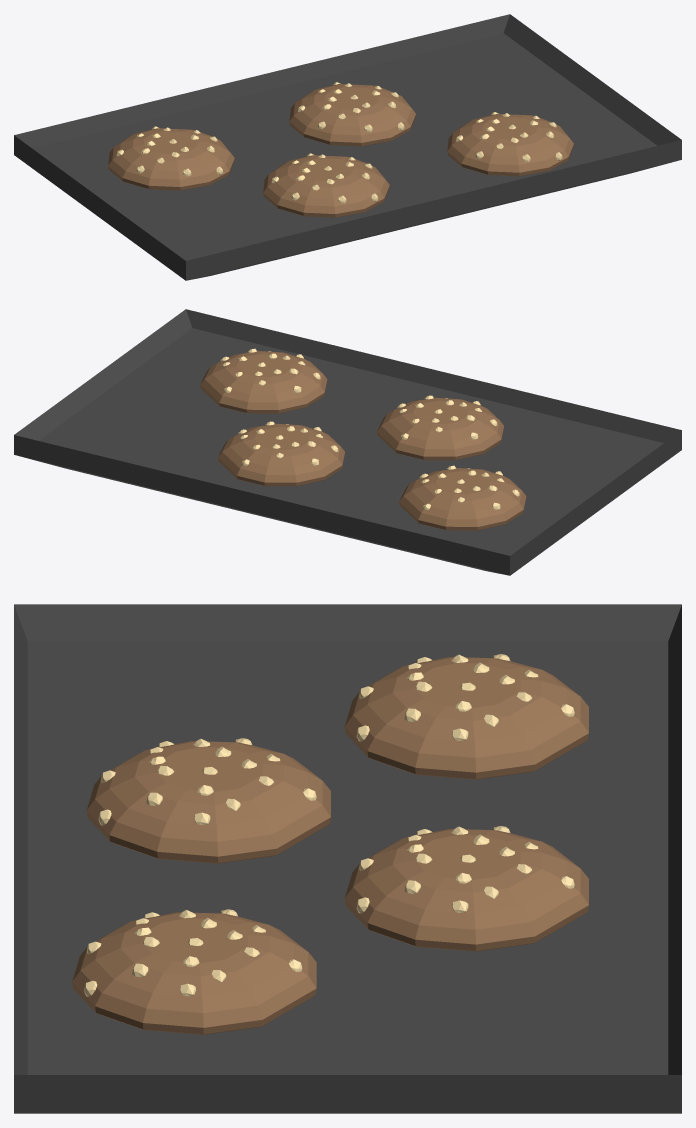
Rendered from rawWhiteCookieTray.fbx.
The picture shows the model from 3 angles, top to bottom: view 1: azimuth 30°, elevation 25°; view 2: azimuth 150°, elevation 25°; view 3: azimuth 270°, elevation 25°; orthographic projection. The views are drawn at different scales.
Visible parts, largest first — view 1: Cube, Icosphere.004, Icosphere.002, Icosphere, Icosphere.006; view 2: Cube, Icosphere.002, Icosphere.004, Icosphere.006, Icosphere; view 3: Cube, Icosphere.006, Icosphere.002, Icosphere, Icosphere.004.
Part boxes in pixels (<box>): Cube: <box>14,14,681,280</box>; Icosphere.004: <box>289,82,415,146</box>; Icosphere.002: <box>263,153,389,217</box>; Icosphere: <box>108,126,234,190</box>; Icosphere.006: <box>447,112,573,176</box>; Cube: <box>14,309,681,575</box>; Icosphere.002: <box>377,395,503,460</box>; Icosphere.004: <box>218,421,344,486</box>; Icosphere.006: <box>200,348,327,413</box>; Icosphere: <box>399,465,526,530</box>; Cube: <box>14,604,681,1113</box>; Icosphere.006: <box>72,909,316,1034</box>; Icosphere.002: <box>86,738,330,863</box>; Icosphere: <box>344,654,588,779</box>; Icosphere.004: <box>344,826,588,951</box>.
Bounding box in the file's own units: 236 × 20.51 × 142.
